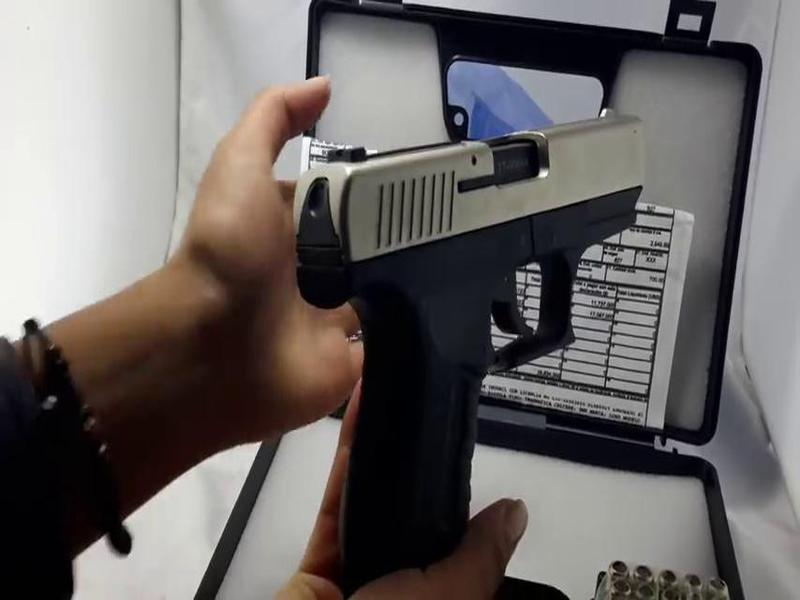Pistola: (291, 85, 647, 580)
